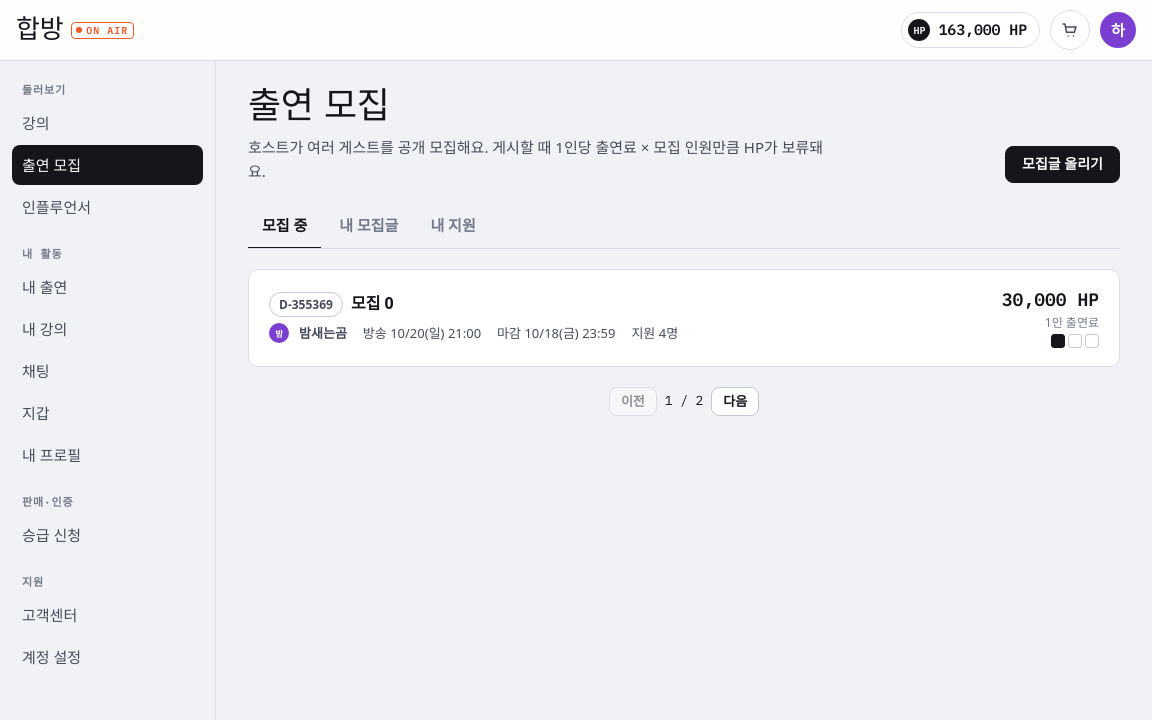
Scenario: 출연 모집 목록 › 페이지를 넘기면 URL page가 바뀐다
Expected: the text "모집 0" is shown, [351,292,394,314]
Step 1. Click the button "다음" → (735, 402), box [711,387,759,416]
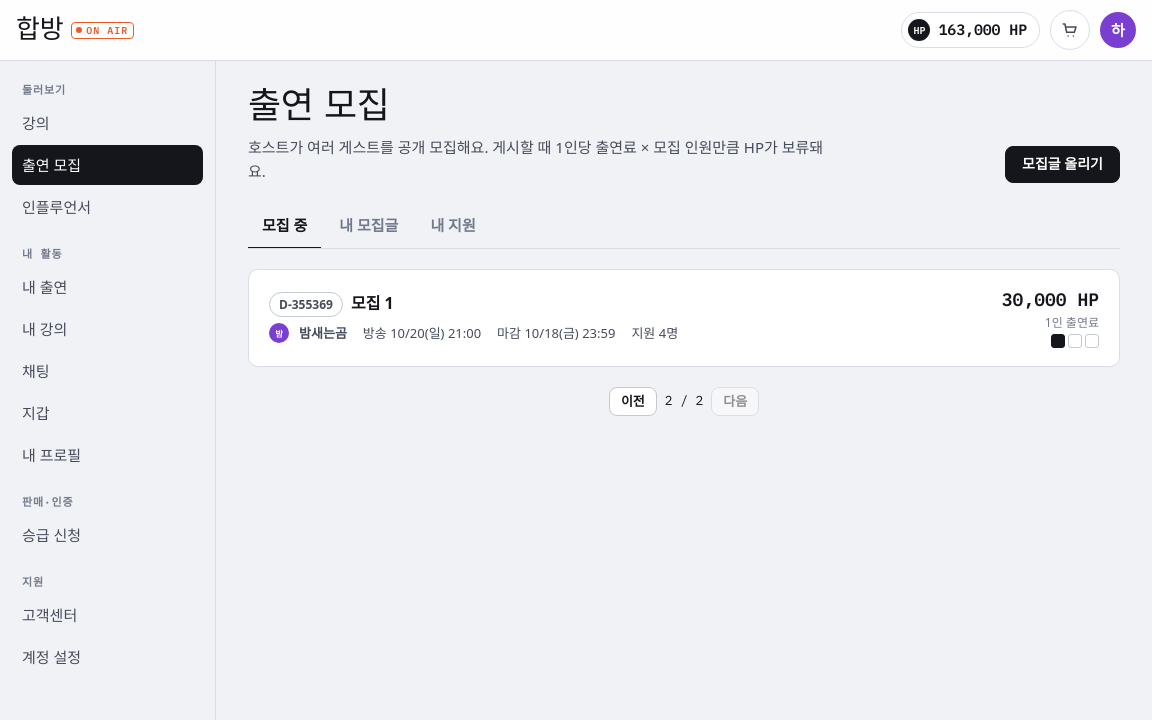
Expected: the text "모집 1" is shown, [351,292,394,314]
